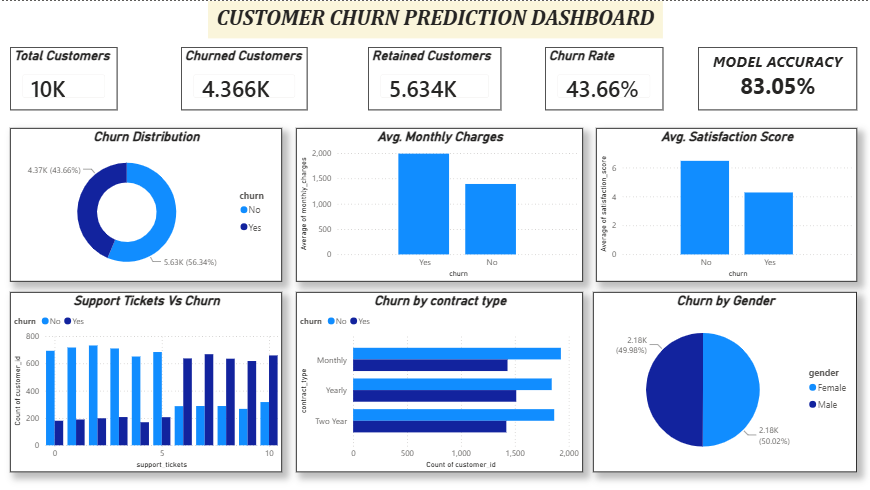

This screenshot's page, from the dashboard's own definition file:
{"tool":"powerbi","page":{"name":"Page 1","canvas":[1280,720],"ordinal":0},"visuals":[{"type":"textbox","box":[305.7,0,668.6,55.4],"z":0},{"type":"cardVisual","title":"Total Customers","fields":{"Data":["CountNonNull(customer_churn.customer_id)"]},"box":[14.1,67.8,158.1,93.2],"z":1},{"type":"cardVisual","title":"Churned Customers","fields":{"Data":["CountNonNull(customer_churn.customer_id)"]},"box":[266.8,67.8,186.4,93.2],"z":2},{"type":"cardVisual","title":"Retained Customers","fields":{"Data":["CountNonNull(customer_churn.customer_id)"]},"box":[540.7,67.8,196.2,93.2],"z":3},{"type":"cardVisual","title":"Churn Rate","fields":{"Data":["customer_churn.Churn Rate"]},"box":[801.9,67.8,173.6,93.2],"z":4},{"type":"donutChart","title":"Churn Distribution","fields":{"Category":["customer_churn.churn"],"Y":["CountNonNull(customer_churn.customer_id)"]},"box":[14.1,186.4,399.5,225.9],"z":5},{"type":"clusteredColumnChart","title":"Avg. Monthly Charges","fields":{"Category":["customer_churn.churn"],"Y":["Avg(customer_churn.monthly_charges)"]},"box":[434.8,186.4,422.1,225.9],"z":6},{"type":"clusteredColumnChart","title":"Avg. Satisfaction Score","fields":{"Category":["customer_churn.churn"],"Y":["Avg(customer_churn.satisfaction_score)"]},"box":[876.7,186.4,384,225.9],"z":7},{"type":"clusteredColumnChart","title":"Support Tickets Vs Churn","fields":{"Category":["customer_churn.support_tickets"],"Series":["customer_churn.churn"],"Y":["CountNonNull(customer_churn.customer_id)"]},"box":[14.1,427.8,399.5,265.4],"z":8},{"type":"clusteredBarChart","title":"Churn by contract type","fields":{"Category":["customer_churn.contract_type"],"Series":["customer_churn.churn"],"Y":["CountNonNull(customer_churn.customer_id)"]},"box":[434.8,427.8,422.1,265.4],"z":9},{"type":"pieChart","title":"Churn by Gender","fields":{"Category":["customer_churn.gender"],"Y":["CountNonNull(customer_churn.customer_id)"]},"box":[872.5,427.8,388.2,265.4],"z":10},{"type":"textbox","box":[1026.4,67.8,234.4,93.2],"z":11}]}

Visuals, with their boxes in screenshot pixels (x1, y1, x2, y2), scaled from the page's 1280x720 canvas onto the 870x490 screenshot:
textbox: pyautogui.locateOnScreen(208, 0, 662, 38)
"Total Customers" cardVisual: pyautogui.locateOnScreen(10, 46, 117, 110)
"Churned Customers" cardVisual: pyautogui.locateOnScreen(181, 46, 308, 110)
"Retained Customers" cardVisual: pyautogui.locateOnScreen(368, 46, 501, 110)
"Churn Rate" cardVisual: pyautogui.locateOnScreen(545, 46, 663, 110)
"Churn Distribution" donutChart: pyautogui.locateOnScreen(10, 127, 281, 281)
"Avg. Monthly Charges" clusteredColumnChart: pyautogui.locateOnScreen(296, 127, 582, 281)
"Avg. Satisfaction Score" clusteredColumnChart: pyautogui.locateOnScreen(596, 127, 857, 281)
"Support Tickets Vs Churn" clusteredColumnChart: pyautogui.locateOnScreen(10, 291, 281, 472)
"Churn by contract type" clusteredBarChart: pyautogui.locateOnScreen(296, 291, 582, 472)
"Churn by Gender" pieChart: pyautogui.locateOnScreen(593, 291, 857, 472)
textbox: pyautogui.locateOnScreen(698, 46, 857, 110)
